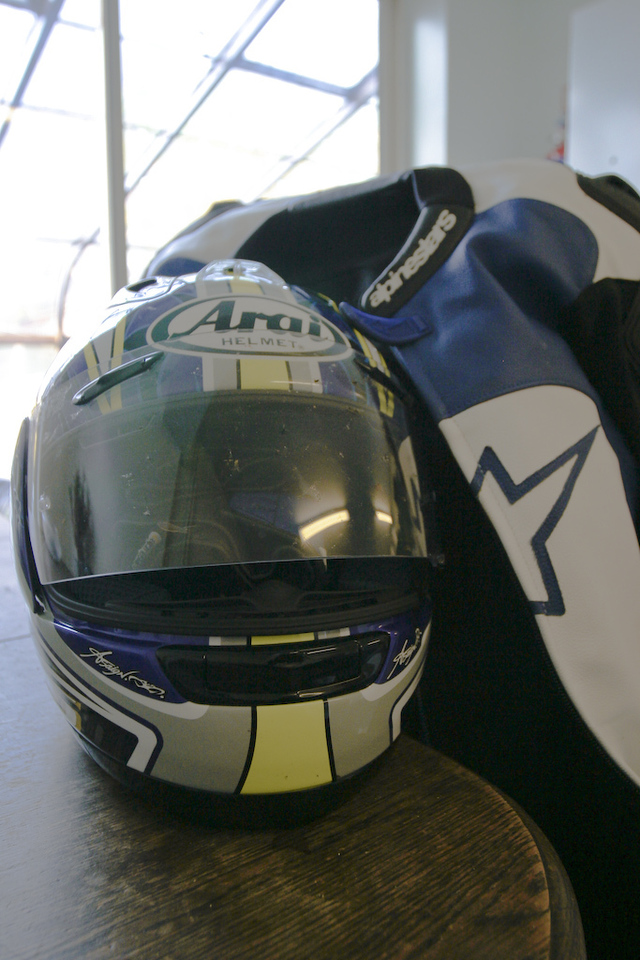helmet: (24, 303, 456, 796)
